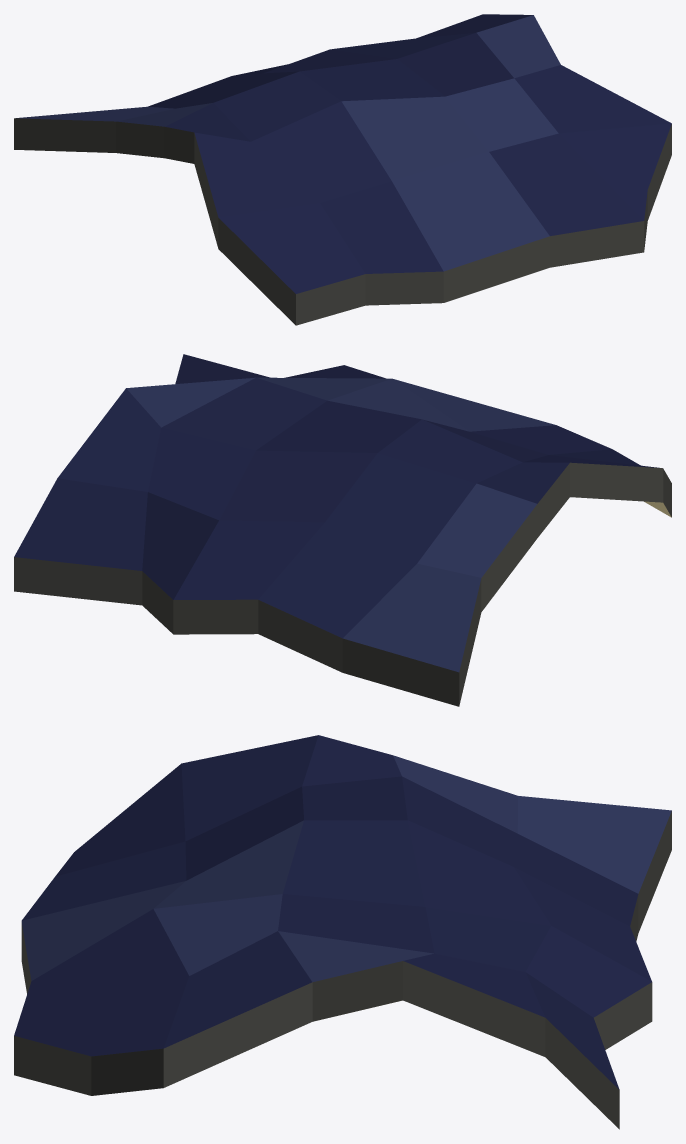
Rendered from deb-panel-03.obj.
3 renders of one model, top to bottom at view 1: azimuth 30°, elevation 25°; view 2: azimuth 150°, elevation 25°; view 3: azimuth 270°, elevation 25°, orthographic. The views are drawn at different scales.
Visible parts, largest first — view 1: deb-panel-03; view 2: deb-panel-03; view 3: deb-panel-03.
Boxes of the visible parts, bbox=[...] form: deb-panel-03: bbox=[14, 14, 671, 325]; deb-panel-03: bbox=[14, 354, 671, 706]; deb-panel-03: bbox=[14, 735, 671, 1129].
Size of the model in its own units: 0.3777 by 0.1006 by 0.3771.
